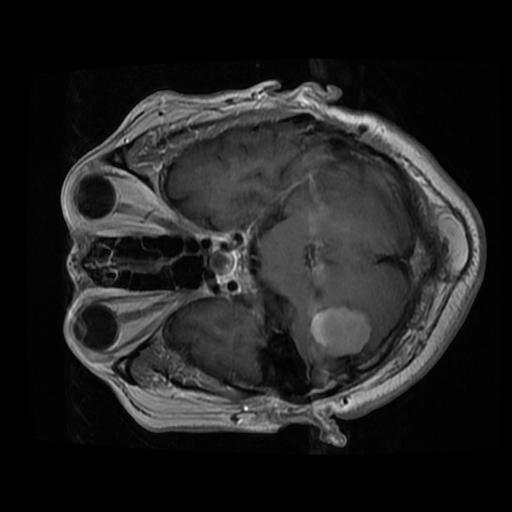meningioma: (310, 307, 369, 357)
